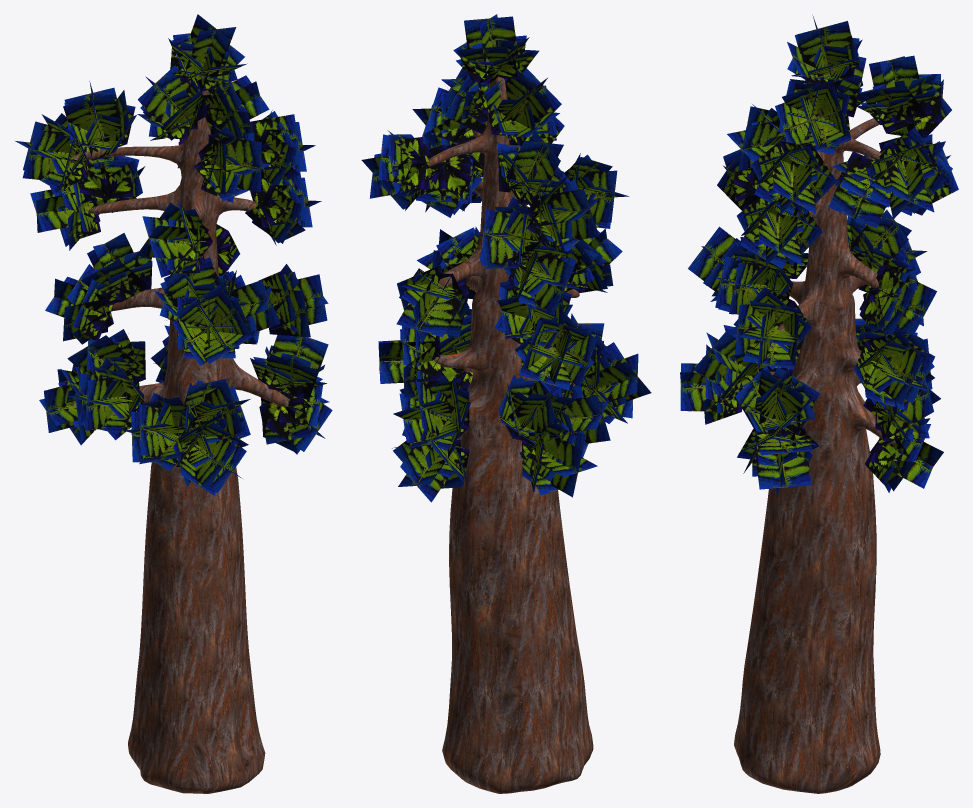
3 renders of one model, left to right at view 1: azimuth 30°, elevation 25°; view 2: azimuth 150°, elevation 25°; view 3: azimuth 270°, elevation 25°, orthographic. The views are drawn at different scales.
Visible parts, largest first — view 1: Redwood Leaves.025, Sequioa Redwood; view 2: Redwood Leaves.025, Sequioa Redwood; view 3: Redwood Leaves.025, Sequioa Redwood.
Part boxes in pixels (left/top/right/bottom): Redwood Leaves.025: left=15, top=14, right=332, bottom=495; Sequioa Redwood: left=71, top=79, right=289, bottom=793; Redwood Leaves.025: left=361, top=14, right=651, bottom=502; Sequioa Redwood: left=428, top=76, right=593, bottom=793; Redwood Leaves.025: left=680, top=15, right=958, bottom=495; Sequioa Redwood: left=734, top=74, right=895, bottom=793.
Bounding box in the file's own units: 4.31 × 12.53 × 4.17.
Materials: 3 (3 with a texture image).
